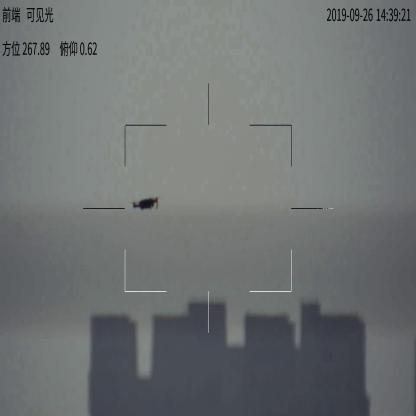uav: (129, 194, 161, 214)
